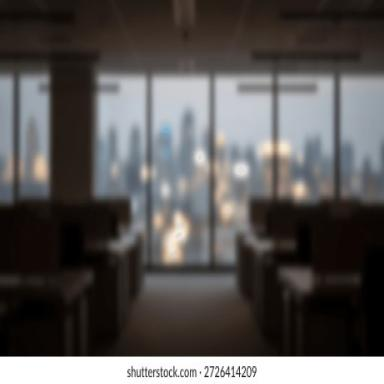glass_panel: (214, 74, 273, 263), (152, 75, 210, 266), (94, 74, 146, 246), (276, 74, 335, 203), (340, 74, 384, 203), (19, 71, 51, 199), (1, 74, 14, 204)
